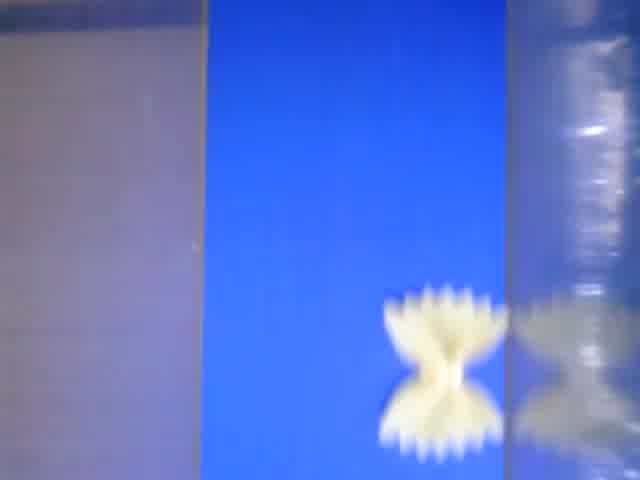farfalle: (379, 285, 509, 459)
